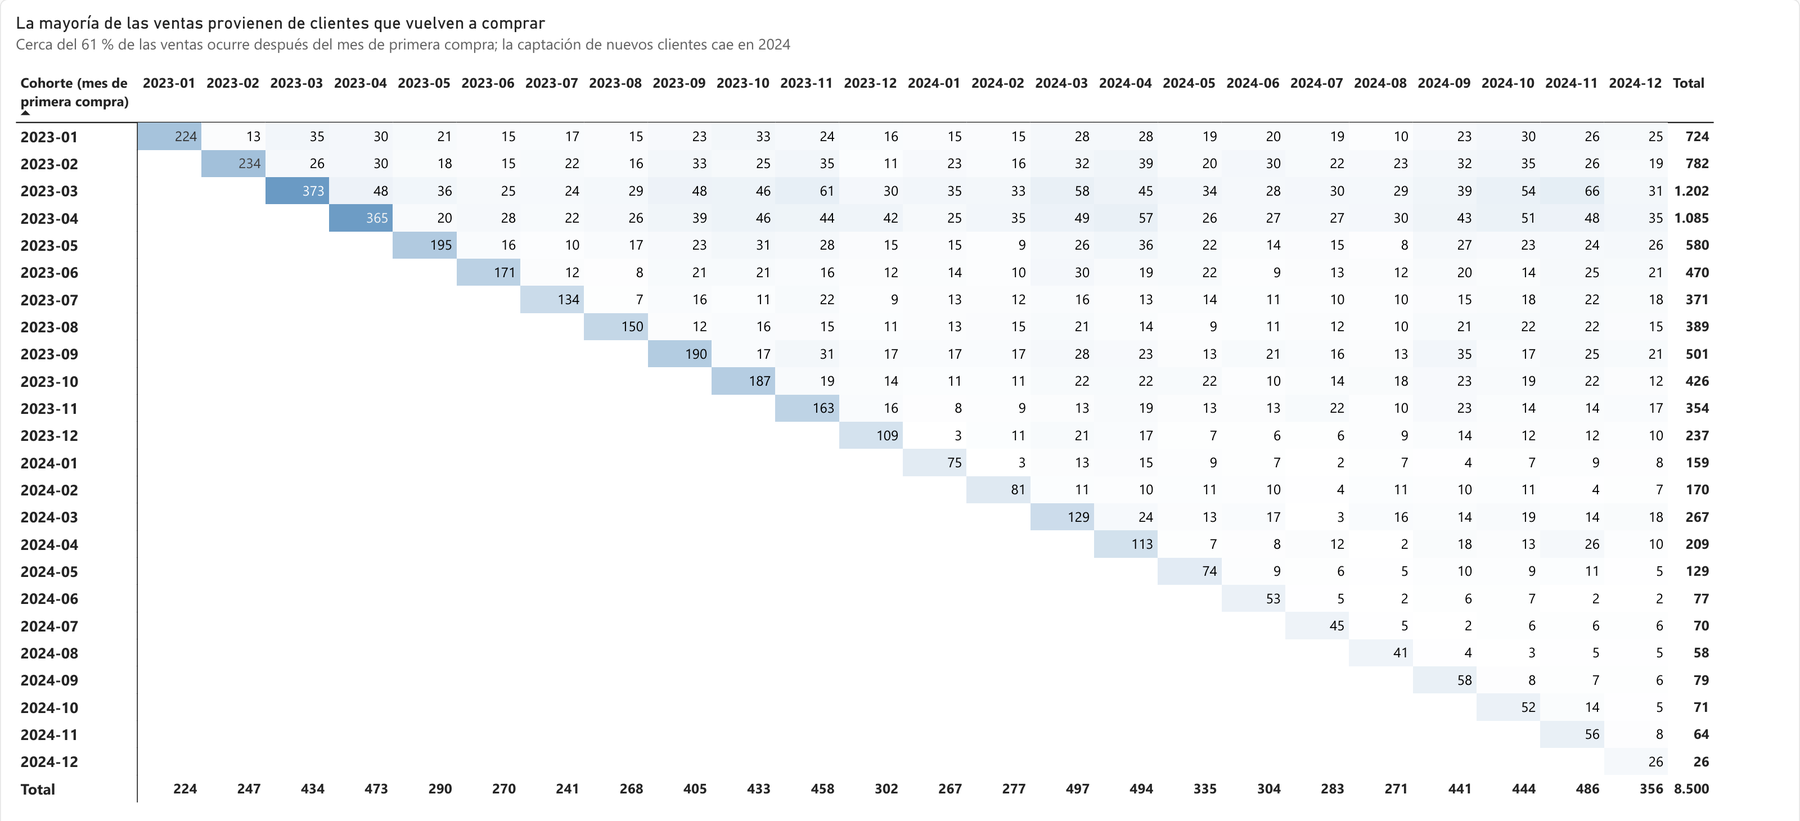

What the dashboard file says about the page in this screenshot:
{"tool":"powerbi","page":{"name":"Cohortes","canvas":[1920,1080],"ordinal":2},"visuals":[{"type":"textbox","box":[10.1,0,643.8,52.2],"z":0},{"type":"pivotTable","title":"La mayoría de las ventas provienen de clientes que vuelven a comprar","fields":{"Columns":["hecho_ventas_propiedades.Mes Venta"],"Rows":["hecho_ventas_propiedades.Mes Cohorte"],"Values":["hecho_ventas_propiedades.Cantidad de Ventas"]},"box":[0,113.1,1919.7,966.4],"z":1}]}

Visuals, with their boxes on the page's 1920x1080 design canvas (x1, y1, x2, y2). These are canvas units, not pixel positions in the 1800x821 screenshot, which may show the page scaled, cropped or inside an application window:
textbox: x1=10 y1=0 x2=654 y2=52
"La mayoría de las ventas provienen de clientes que vuelven a comprar" pivotTable: x1=0 y1=113 x2=1920 y2=1080
